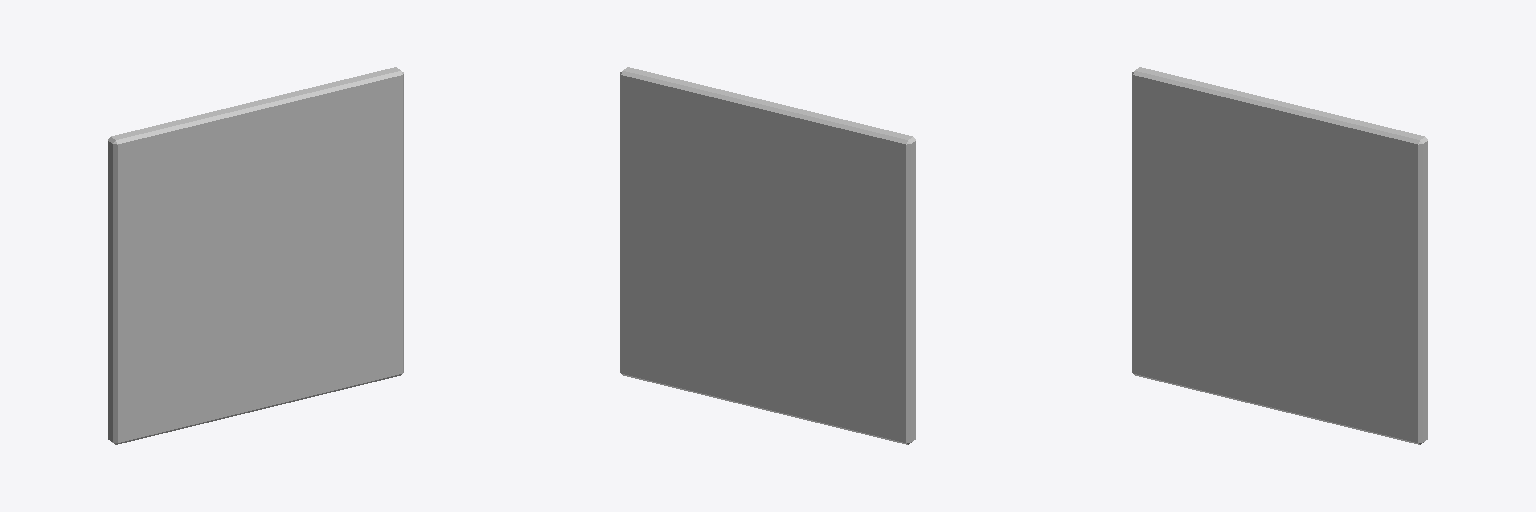
The model's file is panel_2x2.obj.
The picture shows the model from 3 angles: view 1: azimuth 30°, elevation 25°; view 2: azimuth 150°, elevation 25°; view 3: azimuth 330°, elevation 25°; orthographic projection.
Parts seen in each view (by area): view 1: 2x2_white_geo_Plane.006; view 2: 2x2_white_geo_Plane.006; view 3: 2x2_white_geo_Plane.006.
Boxes of the visible parts, x1,y1,x2,y2 form: 2x2_white_geo_Plane.006: [108, 67, 403, 444]; 2x2_white_geo_Plane.006: [620, 67, 915, 444]; 2x2_white_geo_Plane.006: [1132, 67, 1427, 444].
Size of the model in its own units: 1.98 by 1.98 by 0.1.